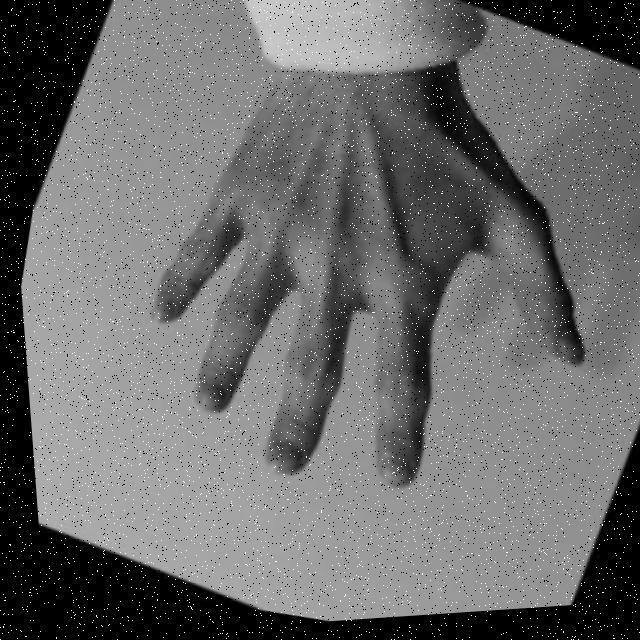no-gloves: (99, 53, 636, 550)
